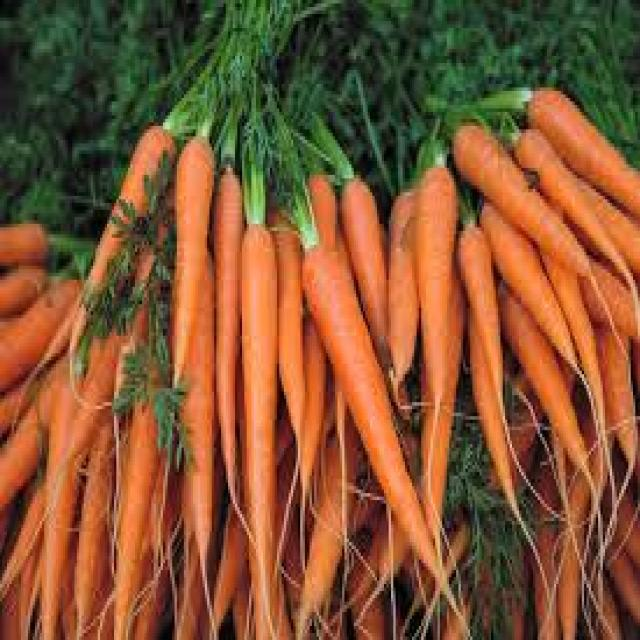organic waste: (0, 0, 638, 637), (300, 231, 459, 605), (125, 0, 638, 84), (65, 119, 177, 364), (510, 126, 638, 301), (449, 119, 589, 276), (237, 214, 284, 636), (472, 189, 580, 371), (337, 164, 412, 420), (540, 244, 612, 503), (496, 272, 589, 468), (0, 0, 74, 227), (414, 185, 458, 549), (298, 412, 368, 636), (524, 80, 638, 210), (463, 294, 524, 528), (168, 130, 214, 416), (177, 234, 212, 598), (409, 136, 452, 424), (263, 202, 303, 503), (207, 161, 240, 521), (49, 0, 93, 269), (214, 112, 452, 161), (0, 353, 72, 511), (456, 217, 505, 430), (556, 158, 638, 284), (126, 87, 524, 112), (116, 384, 152, 636), (133, 444, 179, 637), (0, 272, 79, 384), (70, 416, 109, 637), (107, 147, 175, 255), (72, 0, 103, 231), (524, 444, 561, 637), (384, 186, 417, 396), (594, 318, 638, 465), (347, 521, 402, 637), (298, 308, 328, 518), (489, 381, 540, 500), (568, 248, 638, 332), (72, 255, 130, 354), (0, 483, 42, 619), (209, 496, 249, 636), (424, 507, 466, 637), (554, 458, 584, 637), (244, 528, 291, 637), (93, 0, 118, 199), (598, 521, 638, 630), (547, 350, 572, 507), (358, 504, 408, 580), (600, 468, 638, 566), (149, 378, 191, 465), (582, 535, 617, 637), (16, 524, 47, 636), (496, 514, 524, 637), (305, 161, 340, 259), (466, 507, 491, 637), (110, 336, 154, 409), (0, 367, 44, 437), (140, 252, 168, 350), (566, 84, 638, 122), (363, 493, 393, 584), (226, 560, 260, 636), (0, 220, 54, 266), (114, 0, 128, 168), (263, 157, 305, 210), (0, 262, 42, 312), (438, 584, 474, 637), (361, 136, 386, 210), (270, 388, 293, 455), (501, 577, 528, 630), (237, 161, 263, 213), (602, 126, 638, 161), (291, 210, 305, 241)
